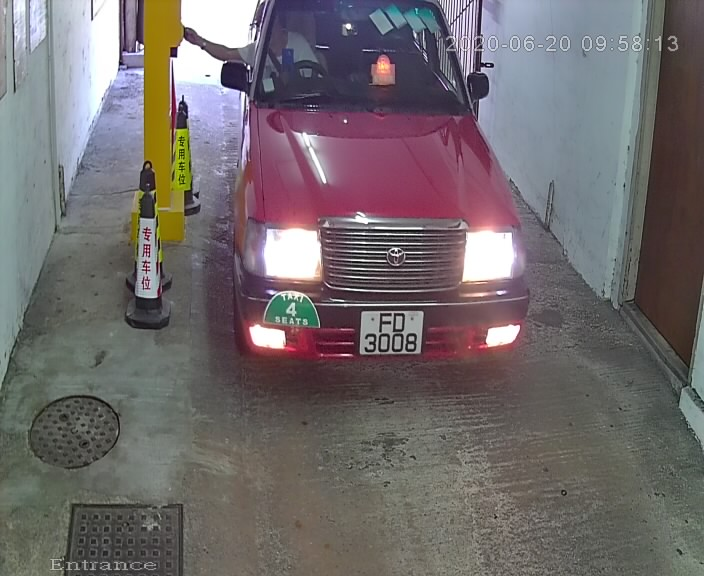taxi: (219, 2, 536, 379)
taxi_mark: (259, 290, 324, 333)
